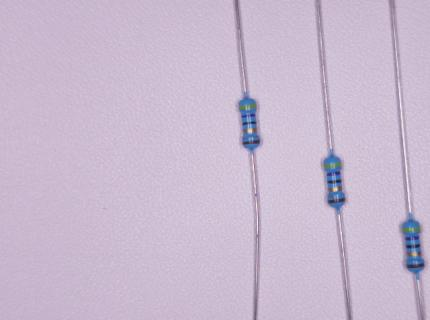Black band: (406, 244, 420, 249), (243, 121, 256, 126), (327, 180, 341, 184)
Brown band: (242, 139, 260, 145), (328, 197, 345, 203), (407, 263, 424, 268)
Gold band: (243, 128, 257, 134), (329, 186, 342, 192), (407, 251, 421, 256)
Violet band: (327, 171, 340, 176), (405, 236, 420, 240), (242, 114, 256, 118)
Yellow band: (402, 226, 420, 232), (239, 104, 257, 109), (324, 162, 341, 167)
